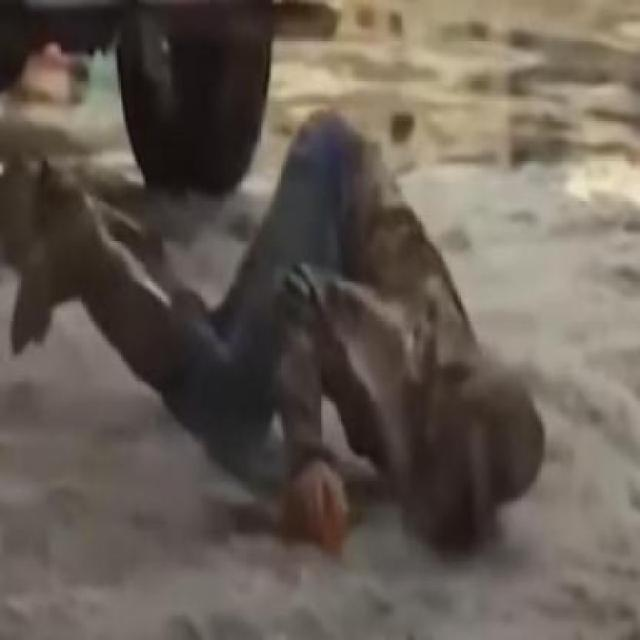fall: (23, 98, 555, 578)
